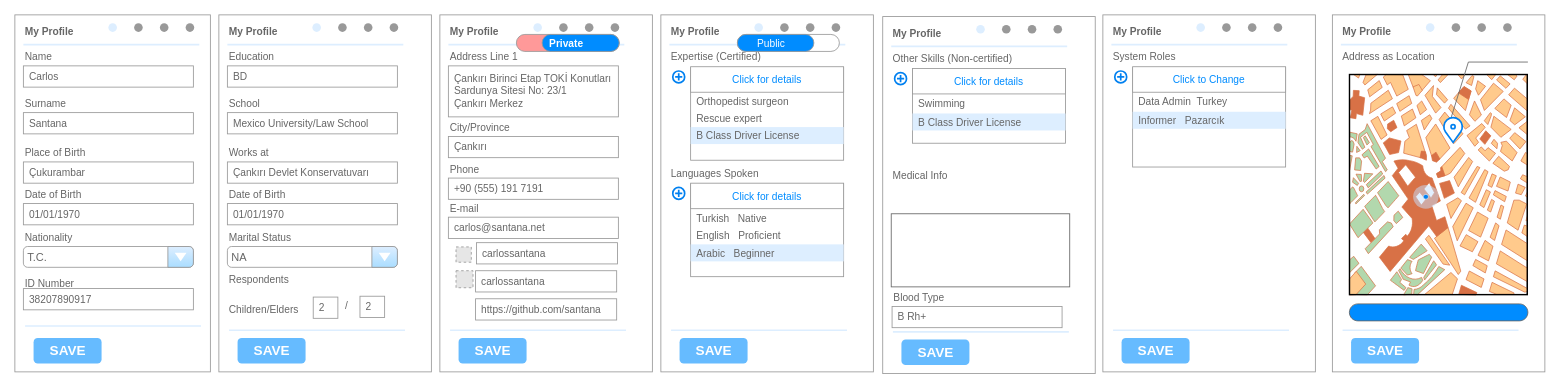
Some shapes in this 1560 by 388 pixel diagram are drawn without their labels. Grey dashed boxes stand in for pictures. The shapes that lost their labels are listed below. From the top down, each one's box as (x1, y1, x2, y2) in pixels, then its label:
(1451, 40, 1528, 117): Current
(1132, 129, 1286, 147): Validator K . Maraş
(890, 180, 1069, 210): Chronic diseases, allergies, regular medications etc. should be noted here
(890, 213, 1070, 287): Tansiyon hastası. Alerji yok.
(1349, 303, 1528, 321): Update location
